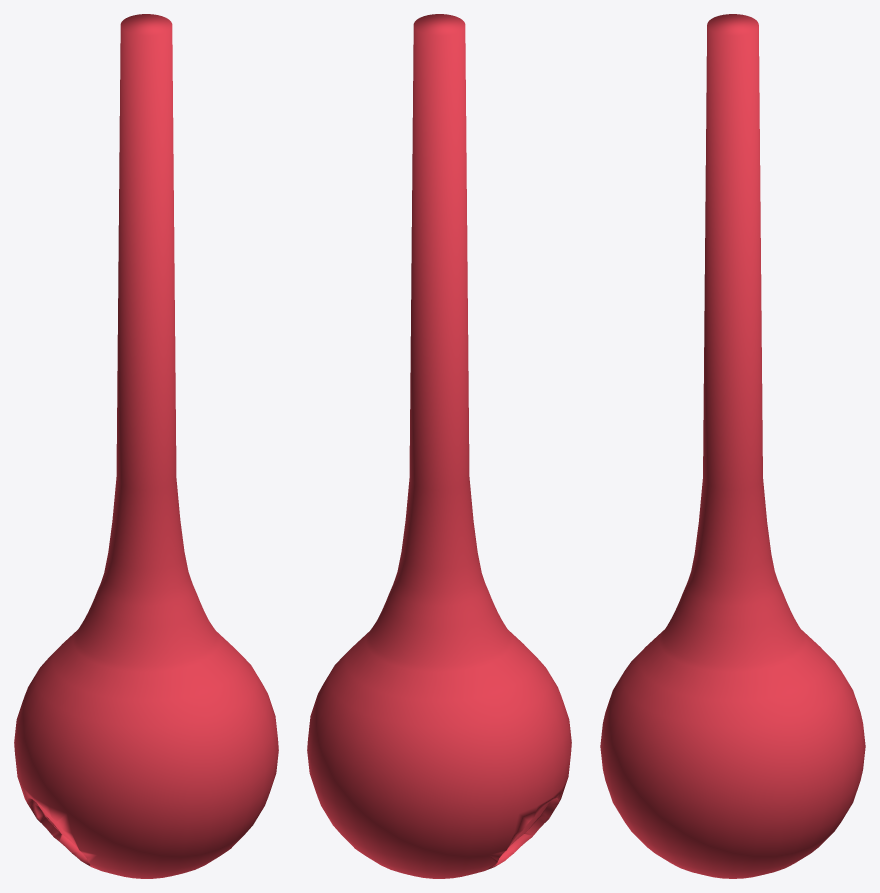
File: Matraz.fbx
3 renders of one model, left to right at view 1: azimuth 30°, elevation 25°; view 2: azimuth 150°, elevation 25°; view 3: azimuth 270°, elevation 25°, orthographic.
Parts seen in each view (by area): view 1: matraz; view 2: matraz; view 3: matraz.
Boxes of the visible parts, <box> form: matraz: <box>14,14,278,878</box>; matraz: <box>307,14,571,878</box>; matraz: <box>600,14,865,878</box>.
Bounding box in the file's own units: 2000 × 7002 × 2000.
